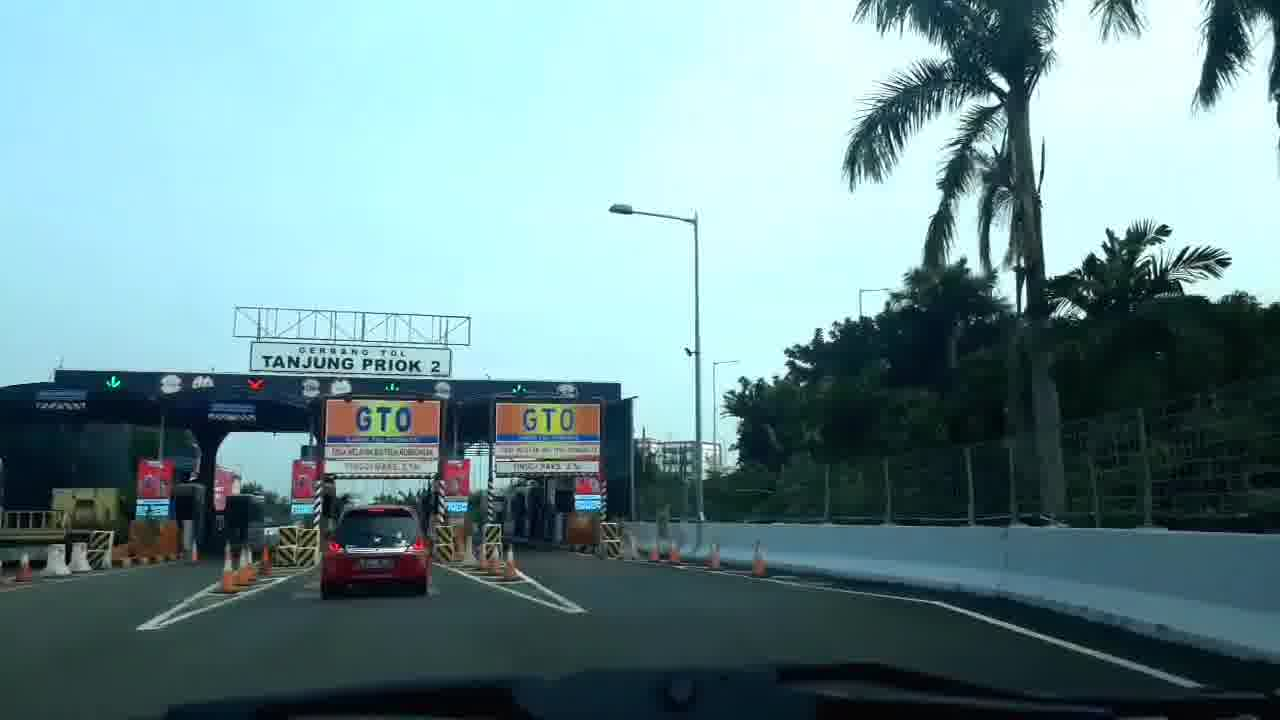plate_positive: (358, 556, 396, 570)
